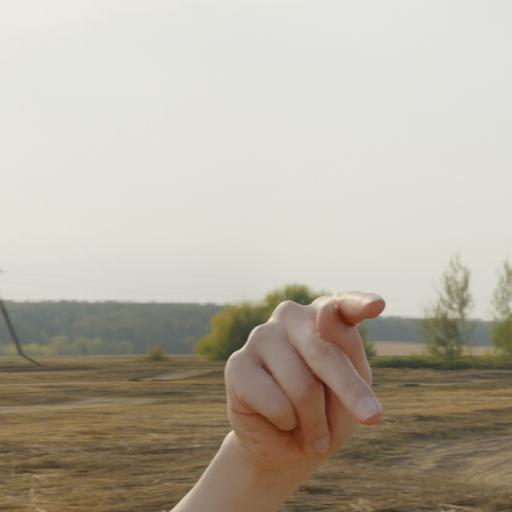P: (191, 259, 428, 512)
